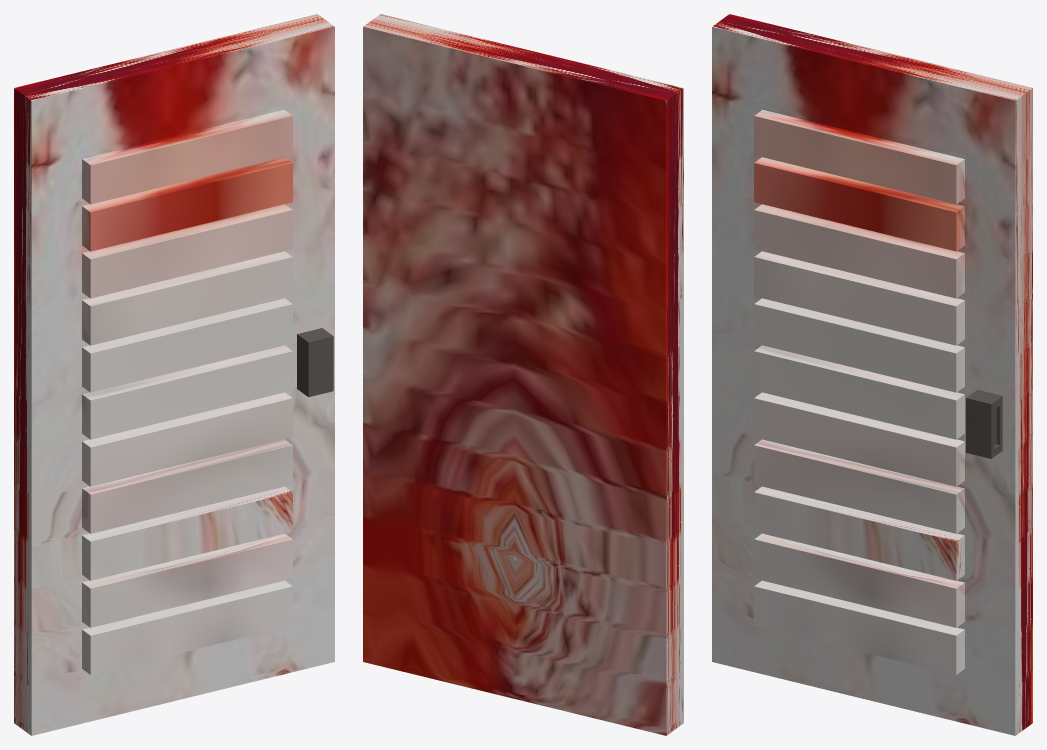
File: Puerta_22.fbx
3 renders of one model, left to right at view 1: azimuth 30°, elevation 25°; view 2: azimuth 150°, elevation 25°; view 3: azimuth 330°, elevation 25°, orthographic.
Parts seen in each view (by area): view 1: Cube.022; view 2: Cube.022; view 3: Cube.022.
Boxes of the visible parts, x1=… form: Cube.022: x1=14, y1=14, x2=334, y2=735; Cube.022: x1=363, y1=14, x2=683, y2=735; Cube.022: x1=712, y1=14, x2=1032, y2=735.
Size of the model in its own units: 200 by 400 by 33.09.
